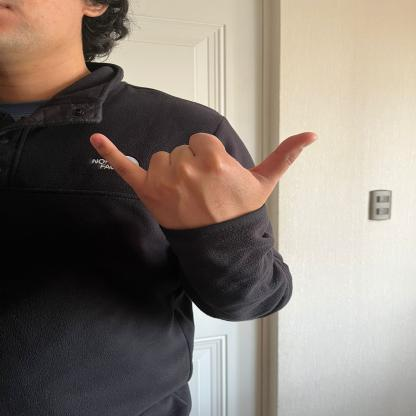Y: (90, 125, 320, 231)
